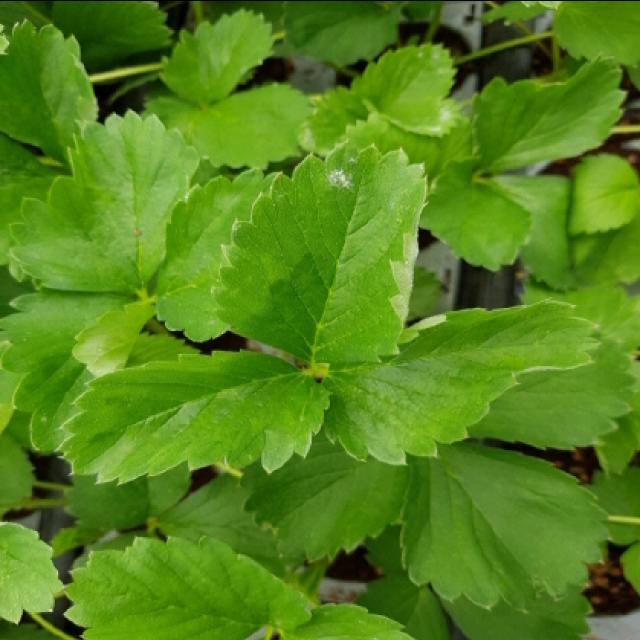Powdery Mildew Leaf: (209, 139, 430, 366), (358, 39, 465, 139)
